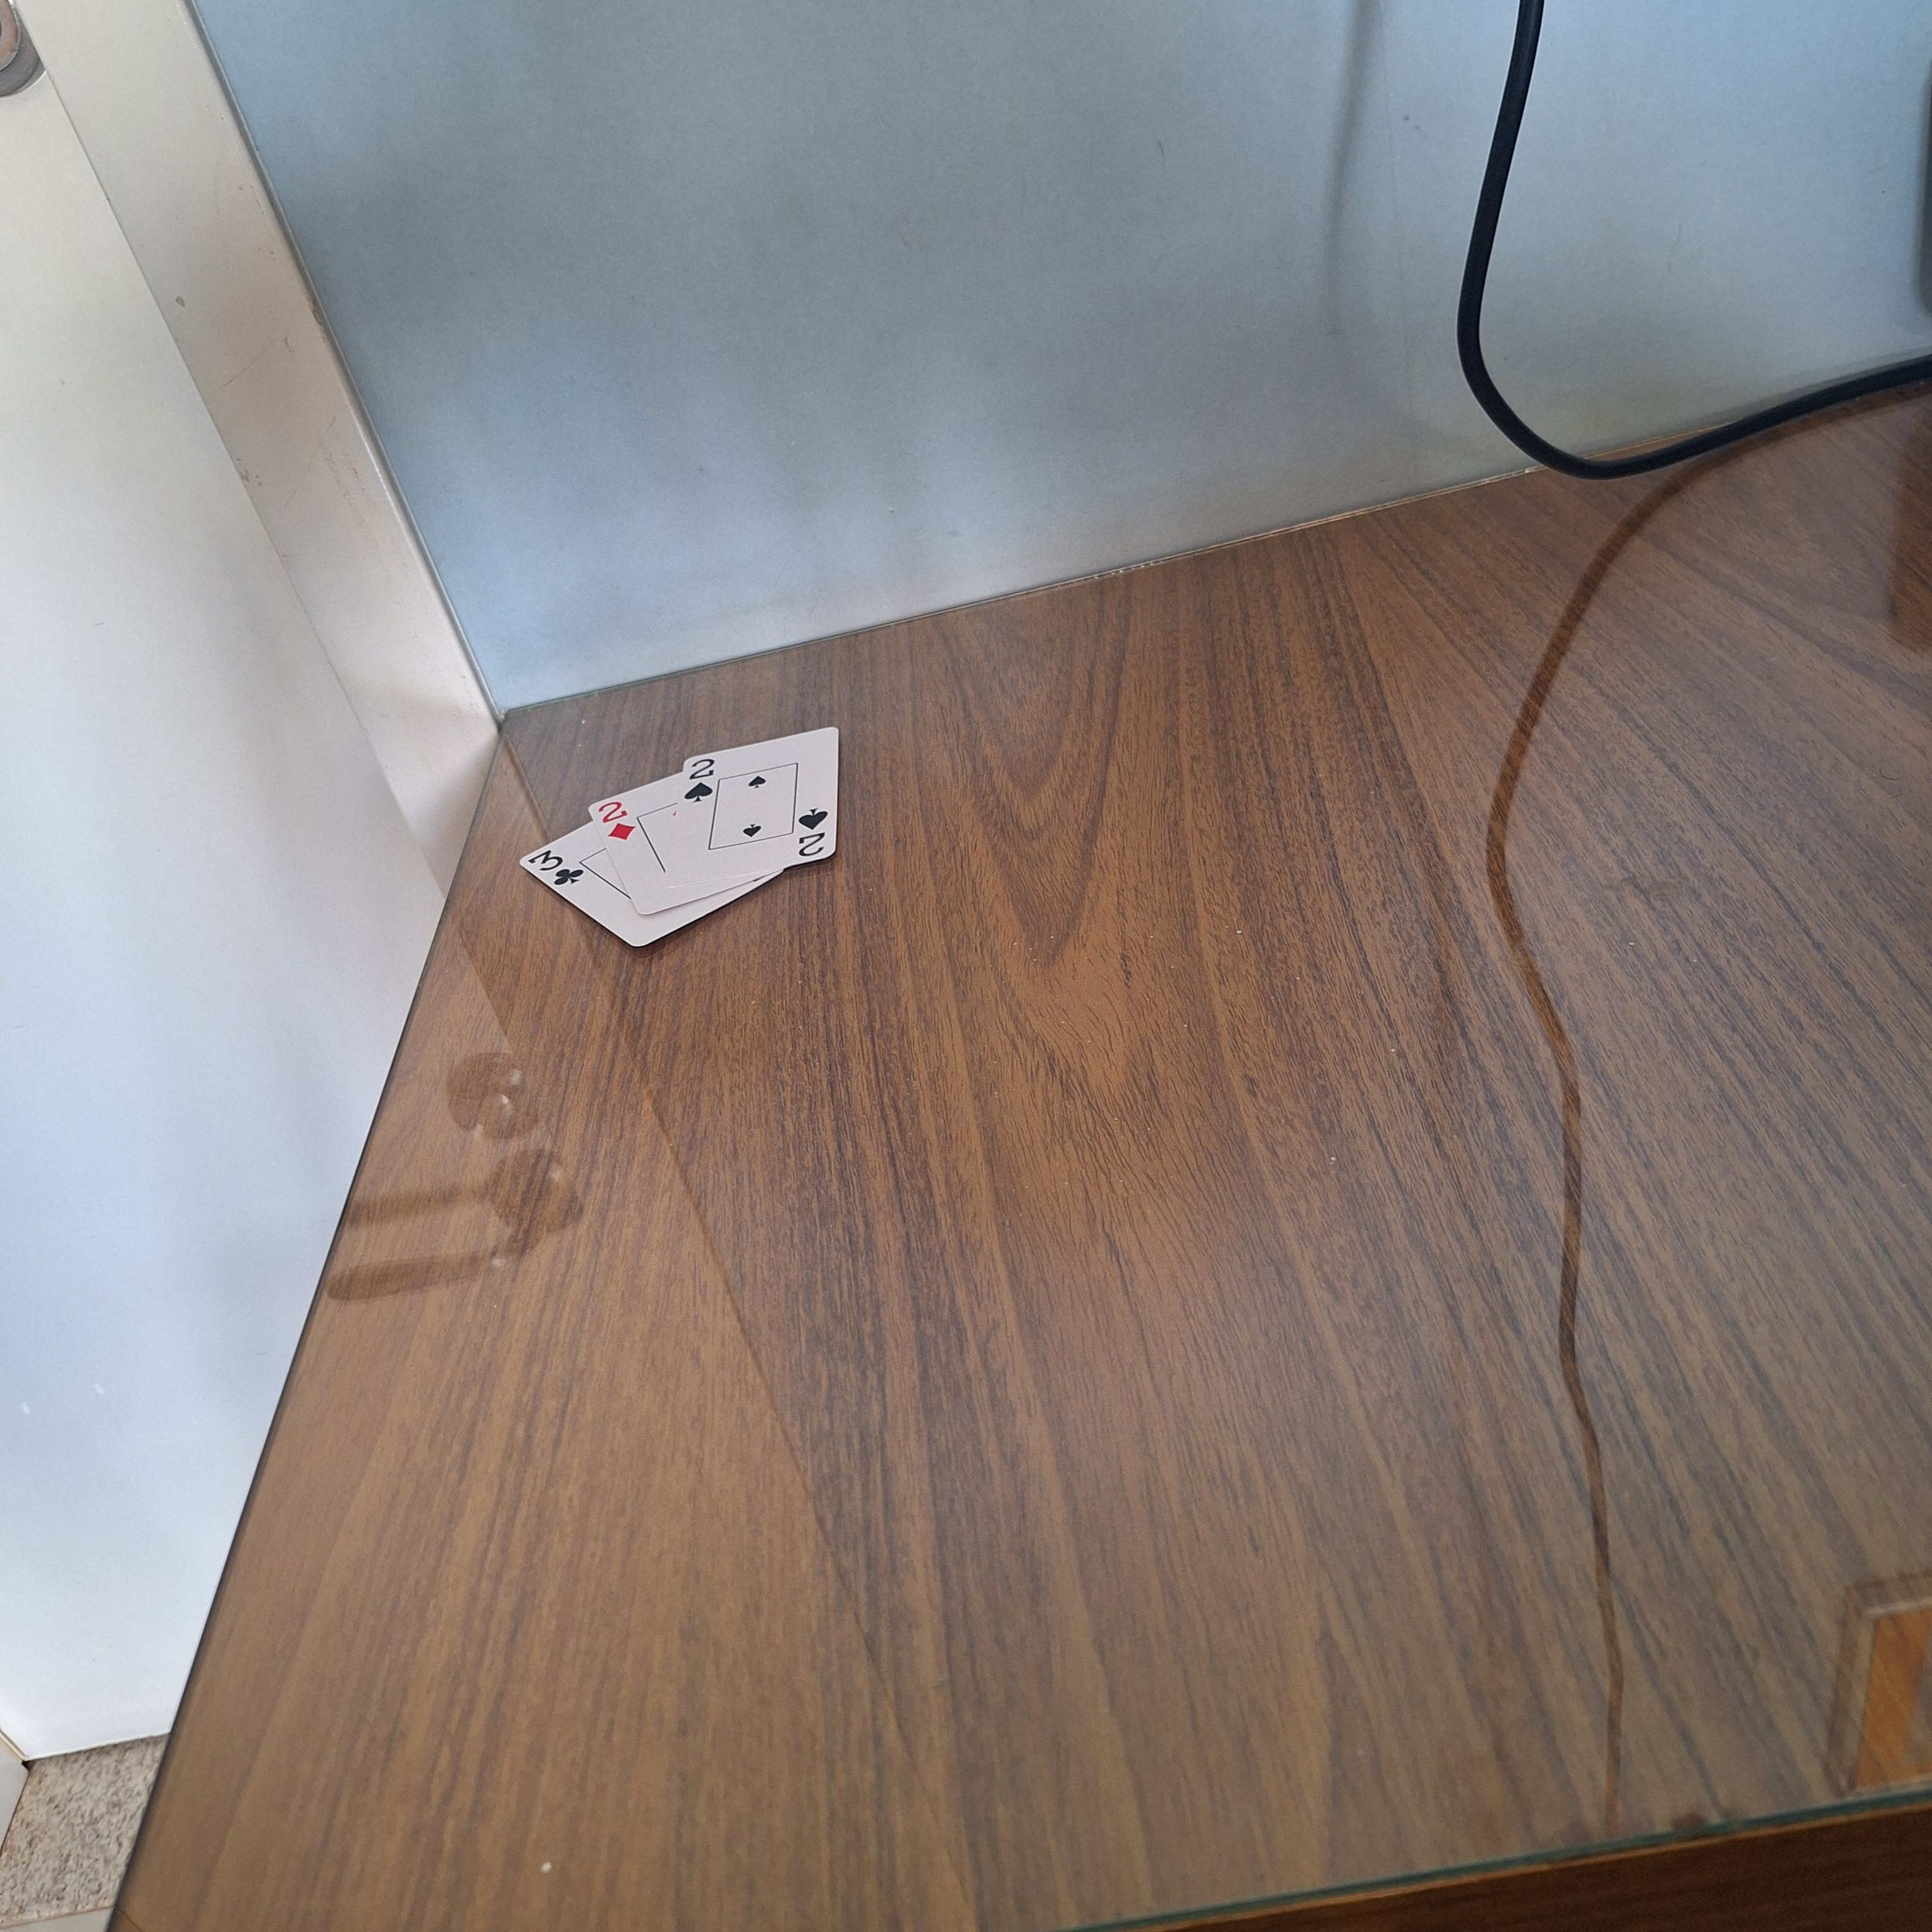2E: (793, 798, 835, 862), (678, 752, 720, 807)
2O: (587, 793, 642, 842)
3P: (518, 842, 586, 888)
